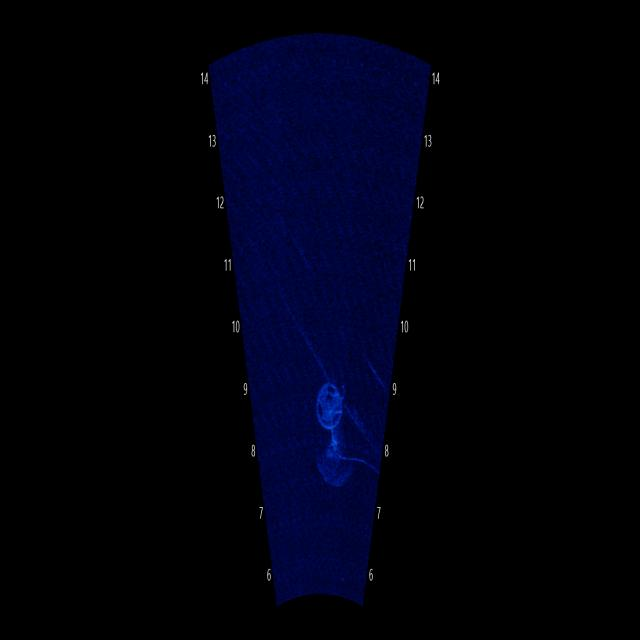circle: (302, 371, 353, 441)
